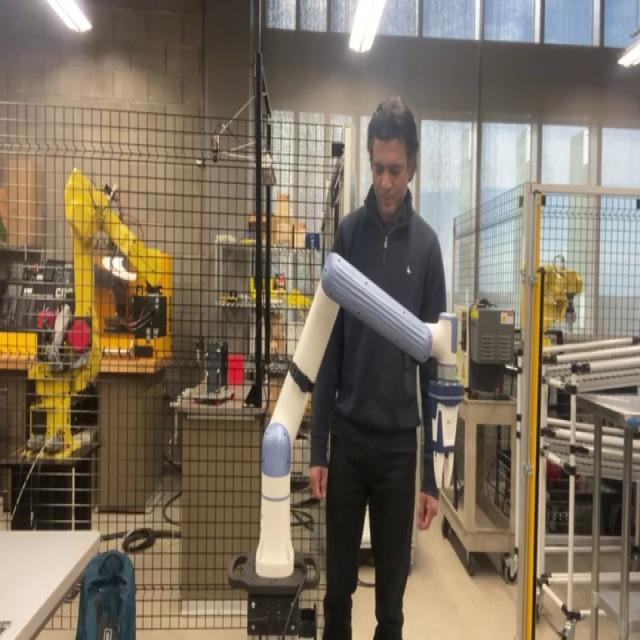human: (307, 95, 447, 637)
robot: (247, 239, 475, 585)
